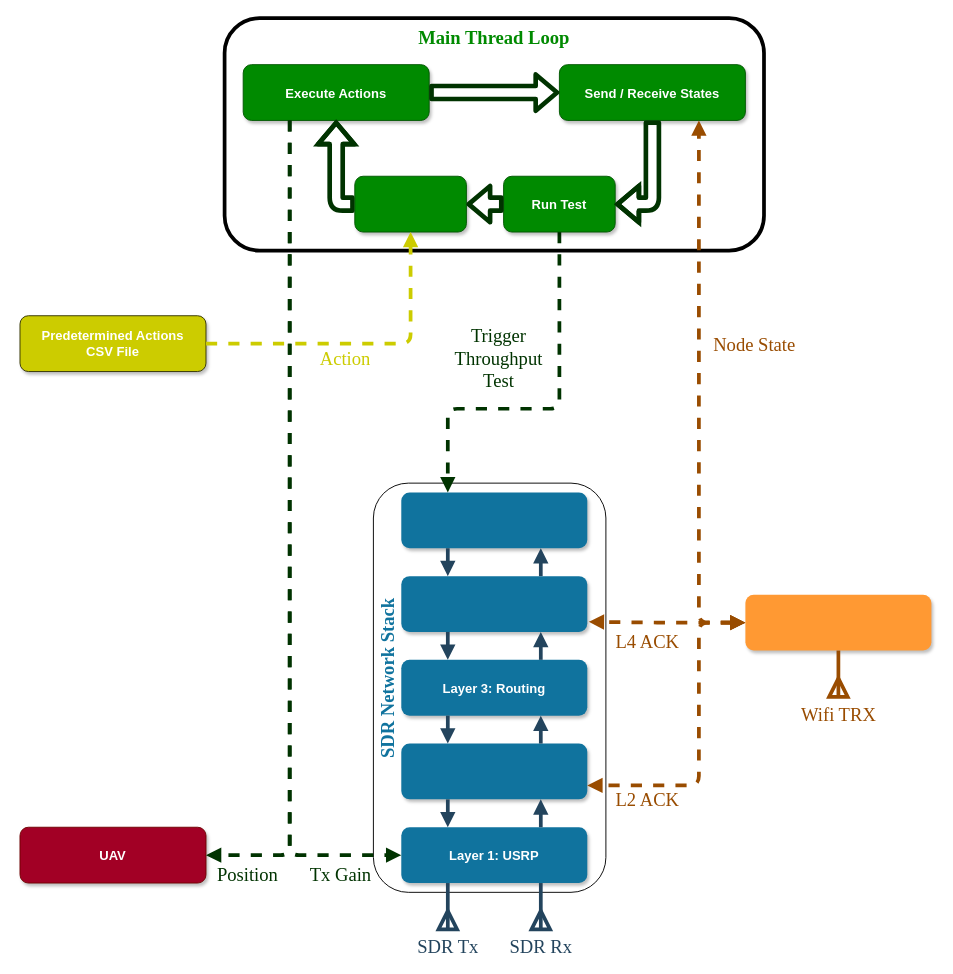
Image size: 953x974. Some labels were removed from this diagram. Each missing label, with the centre of its shape:
Control Plane: the point at 839,624
Get Next Action: the point at 411,205
Layer 2: MAC: the point at 494,772
Layer 4: Transport: the point at 494,605
Layer 5: Application: the point at 494,521
